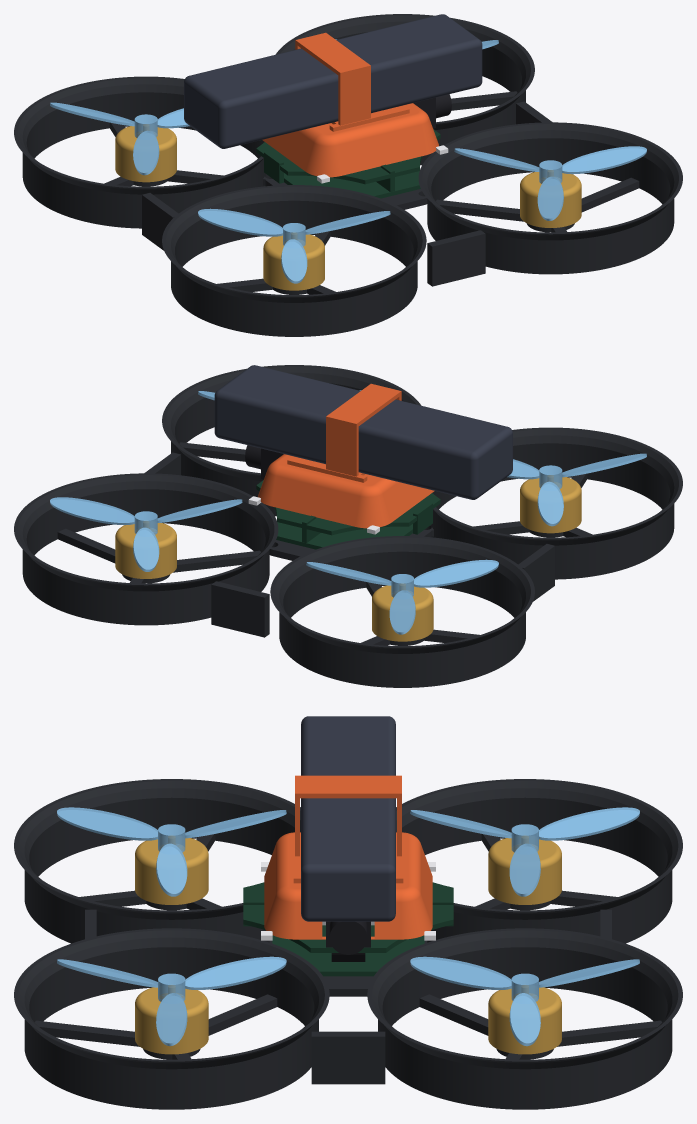
Rendered from microscout_concept.glb.
3 views of the same model, one above another, from view 1: azimuth 30°, elevation 25°; view 2: azimuth 150°, elevation 25°; view 3: azimuth 270°, elevation 25° (orthographic). The views are drawn at different scales.
Visible parts, largest first — view 1: frame_pa11, battery_2s_550, canopy_tpu, prop_2, prop_1, battery_strap, prop_3, motor_1, motor_3, motor_2, fc_board, esc_board (+1 smaller); view 2: frame_pa11, battery_2s_550, canopy_tpu, prop_4, prop_3, battery_strap, prop_1, motor_1, motor_3, motor_4, fc_board, esc_board (+1 smaller); view 3: frame_pa11, battery_2s_550, canopy_tpu, prop_1, prop_3, prop_2, prop_4, battery_strap, motor_2, motor_4, motor_1, motor_3 (+3 smaller).
Boxes of the visible parts, x1,y1,x2,y2 form: frame_pa11: (14, 14, 682, 336); battery_2s_550: (184, 14, 482, 148); canopy_tpu: (262, 103, 438, 177); prop_2: (454, 146, 646, 220); prop_1: (198, 208, 390, 283); battery_strap: (295, 32, 370, 125); prop_3: (50, 102, 189, 175); motor_1: (263, 233, 324, 290); motor_3: (115, 124, 176, 182); motor_2: (520, 170, 581, 227); fc_board: (256, 129, 440, 184); esc_board: (284, 171, 420, 198); frame_pa11: (14, 365, 682, 687); battery_2s_550: (214, 365, 512, 499); canopy_tpu: (258, 454, 434, 528); prop_4: (50, 497, 242, 571); prop_3: (306, 559, 498, 634); battery_strap: (326, 383, 401, 476); prop_1: (507, 453, 646, 526); motor_1: (520, 475, 581, 533); motor_3: (372, 584, 433, 641); motor_4: (115, 521, 176, 578); fc_board: (256, 480, 440, 535); esc_board: (276, 522, 412, 549); frame_pa11: (14, 779, 682, 1109); battery_2s_550: (301, 716, 395, 921); canopy_tpu: (264, 832, 432, 939); prop_1: (57, 807, 286, 896); prop_3: (410, 807, 639, 896); prop_2: (57, 956, 286, 1046); prop_4: (410, 956, 639, 1046); battery_strap: (295, 775, 401, 856); motor_2: (135, 985, 208, 1054); motor_4: (488, 985, 561, 1054); motor_1: (135, 836, 208, 904); motor_3: (488, 836, 561, 904).
Bounding box in the file's own units: 127 × 37.6 × 127.
